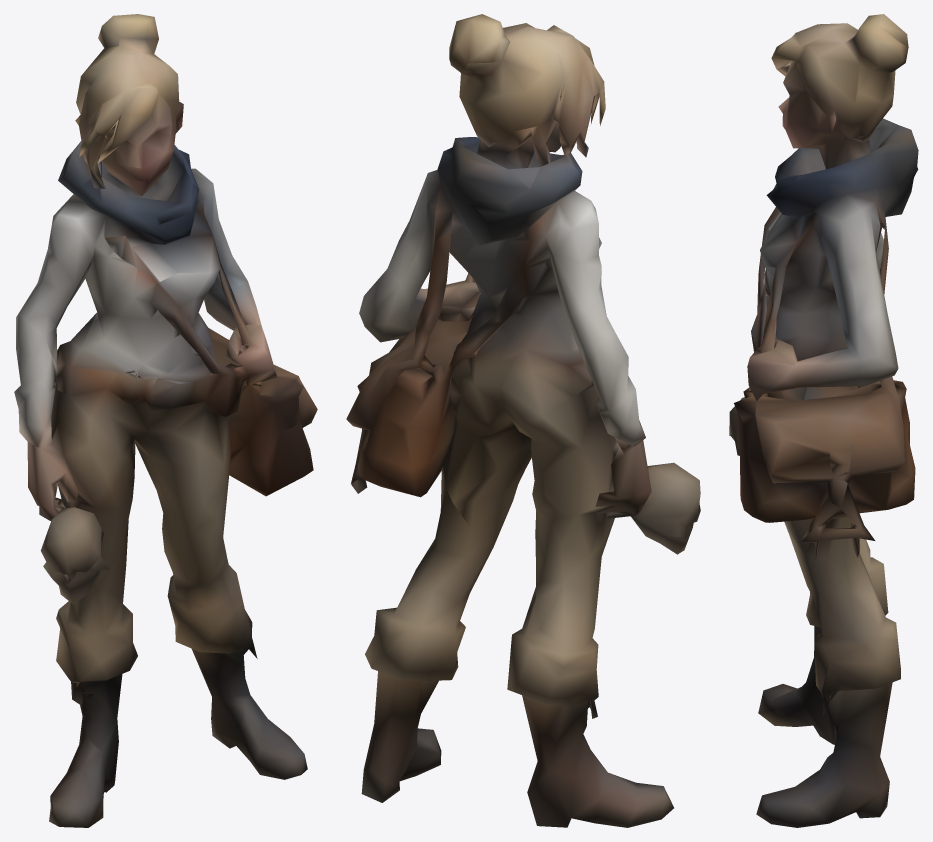
The model's file is crew-personB-far.glb.
The picture shows the model from 3 angles, left to right: view 1: azimuth 30°, elevation 25°; view 2: azimuth 150°, elevation 25°; view 3: azimuth 270°, elevation 25°; orthographic projection. The views are drawn at different scales.
Bounding box in the file's own units: 0.7817 × 2 × 0.4597.
